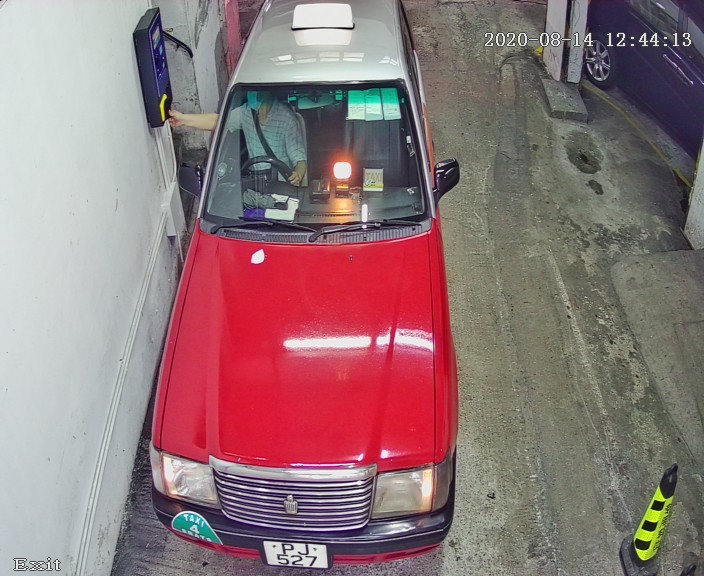taxi: (139, 5, 467, 566)
taxi_mark: (167, 500, 230, 548)
